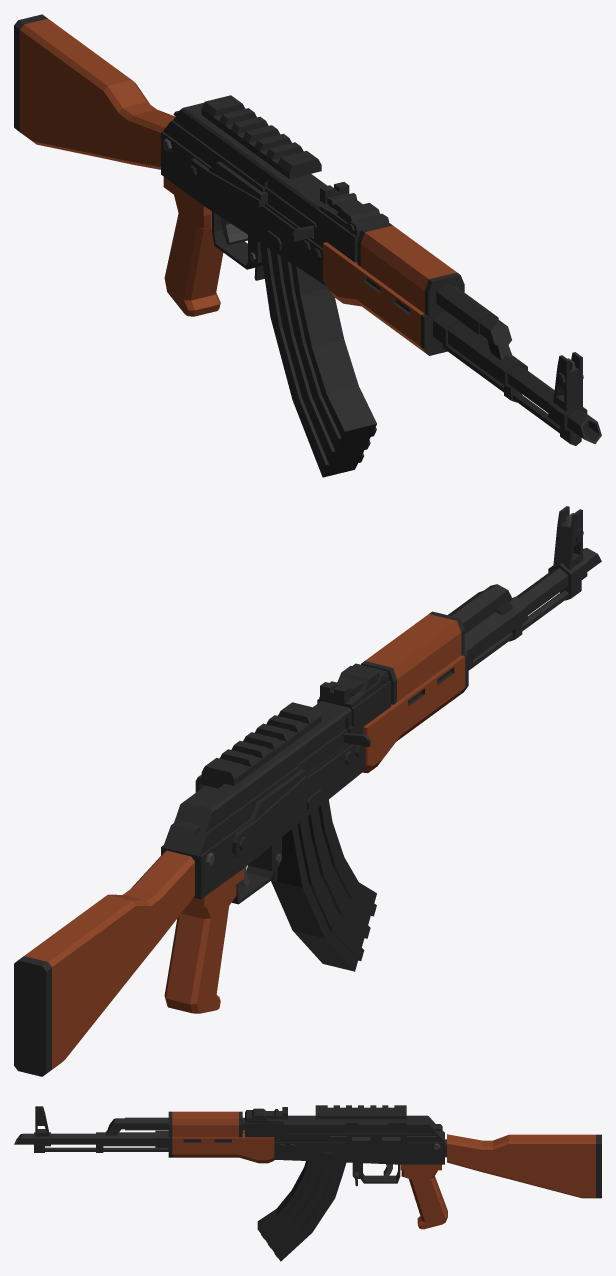
The picture shows the model from 3 angles, top to bottom: view 1: azimuth 30°, elevation 25°; view 2: azimuth 150°, elevation 25°; view 3: azimuth 270°, elevation 25°; orthographic projection. The views are drawn at different scales.
Visible parts, largest first — view 1: AR_B_Receiver, AR_B_Stock, AR_B_Mag, AR_B_BarrelGuard, AR_B_Barrel, AR_B_Grip, AR_B_Rail; view 2: AR_B_Receiver, AR_B_Stock, AR_B_Mag, AR_B_BarrelGuard, AR_B_Barrel, AR_B_Grip, AR_B_Rail; view 3: AR_B_Receiver, AR_B_Stock, AR_B_Mag, AR_B_BarrelGuard, AR_B_Barrel, AR_B_Rail, AR_B_Grip.
Part boxes in pixels (x1,y1,x2,y2): AR_B_Receiver: (161, 103, 389, 285); AR_B_Stock: (14, 14, 175, 169); AR_B_Mag: (260, 243, 376, 477); AR_B_BarrelGuard: (323, 223, 464, 355); AR_B_Barrel: (433, 283, 601, 445); AR_B_Grip: (163, 177, 223, 316); AR_B_Rail: (201, 95, 321, 178); AR_B_Receiver: (161, 663, 391, 904); AR_B_Stock: (14, 850, 194, 1076); AR_B_Mag: (271, 799, 376, 971); AR_B_BarrelGuard: (361, 611, 468, 773); AR_B_Barrel: (448, 506, 601, 670); AR_B_Grip: (164, 868, 243, 1013); AR_B_Rail: (195, 702, 321, 792); AR_B_Receiver: (245, 1107, 446, 1186); AR_B_Stock: (447, 1134, 601, 1198); AR_B_Mag: (257, 1161, 346, 1261); AR_B_BarrelGuard: (168, 1111, 274, 1163); AR_B_Barrel: (14, 1106, 244, 1152); AR_B_Rail: (315, 1105, 406, 1143); AR_B_Grip: (400, 1164, 447, 1229).
Size of the model in its own units: 0.0787 by 0.3394 by 1.21.
